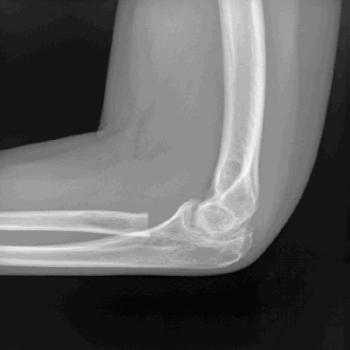Fracture: (133, 194, 196, 240)
